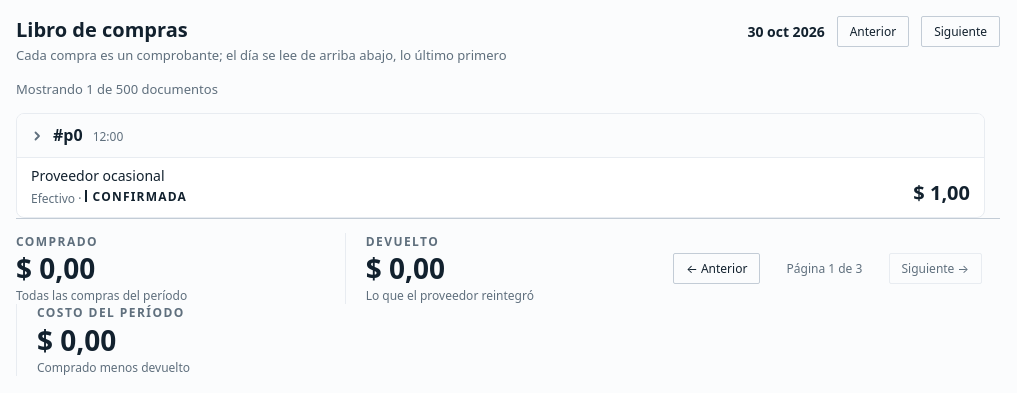
Scenario: one page, one reader › reads the page once per click, not twice
The width and height of the screenshot is (1017, 393).
Click the button "← Anterior". click: (717, 269)
box: 673,253 -> 760,284
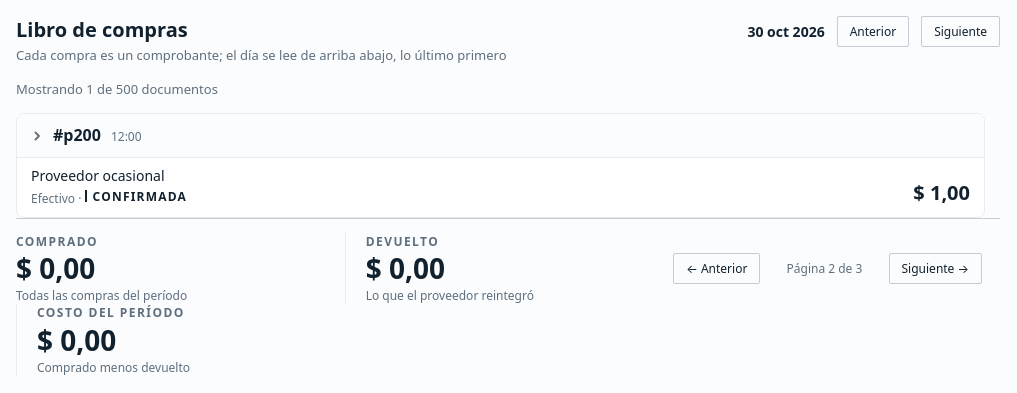
Check: the text "Página 2 de 3" is shown, box 786,260 -> 862,277
